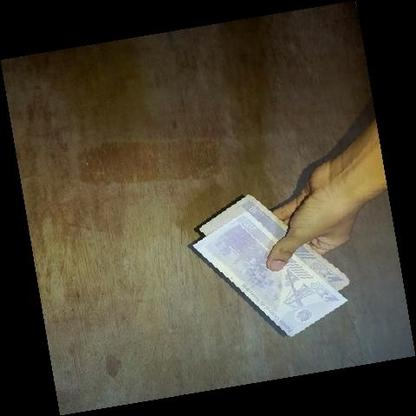two_hundred-back-vef: (190, 211, 348, 338)
